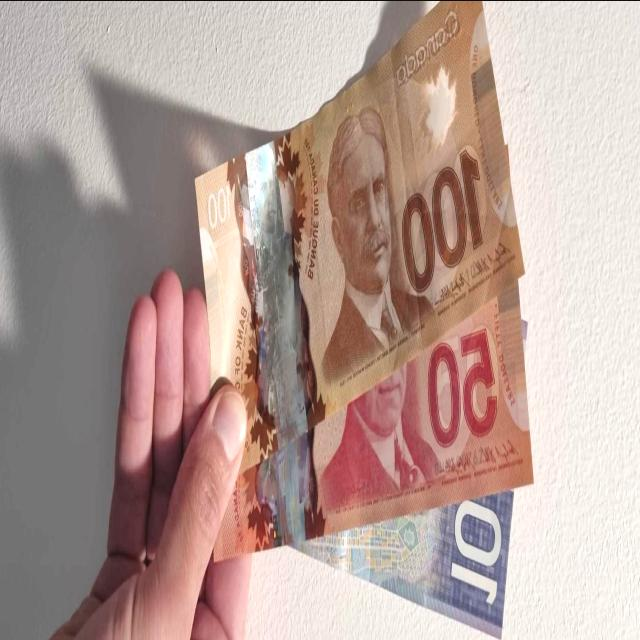10 cad: (298, 485, 513, 636)
100 cad: (198, 0, 526, 449)
50 cad: (213, 286, 532, 556)
